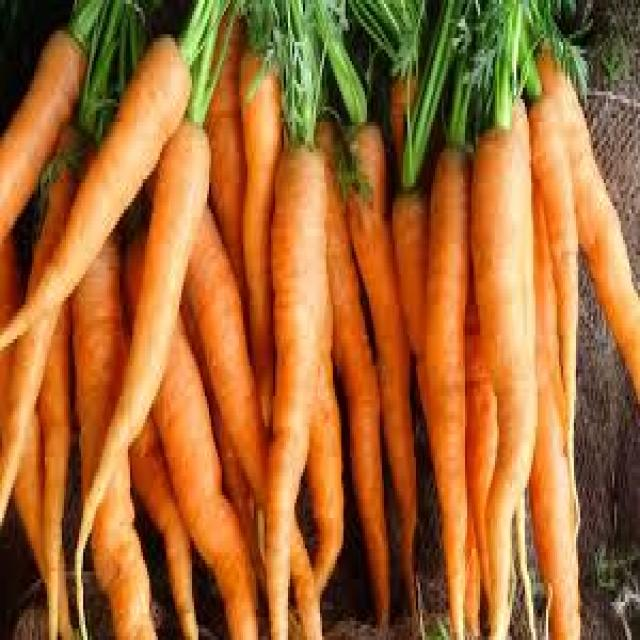Fresh_Carrot: (73, 114, 213, 585), (2, 41, 190, 335), (244, 44, 290, 362)
